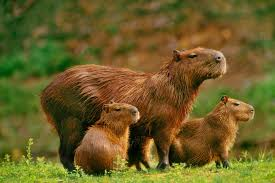capivara: (40, 47, 226, 173), (170, 96, 255, 169), (74, 99, 140, 176)
